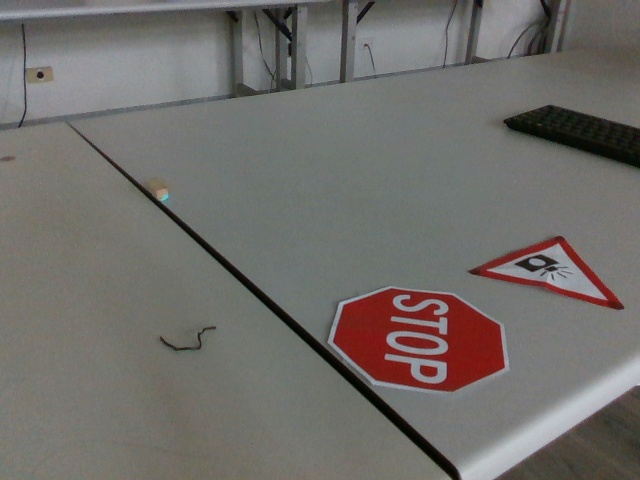camera: (470, 233, 626, 314)
stop: (326, 284, 511, 393)
